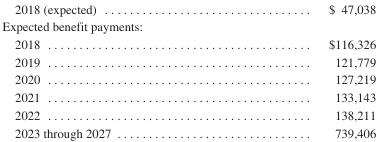table: (1, 1, 375, 139)
table column: (1, 1, 219, 139), (219, 1, 375, 139)
table projected row header: (1, 17, 375, 35)
table row: (1, 17, 375, 35), (1, 52, 375, 70), (1, 70, 375, 88), (1, 105, 375, 123), (1, 35, 375, 52), (1, 88, 375, 105), (1, 1, 375, 17), (1, 123, 375, 139)
